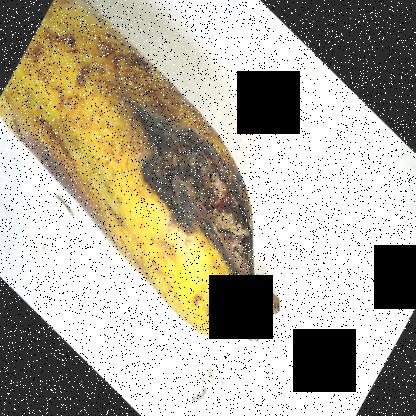ripe: (4, 0, 280, 354)
rotten: (123, 74, 293, 326)
